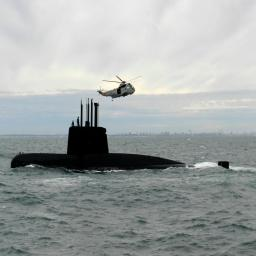helicopter: (98, 65, 147, 106)
submarine: (6, 93, 231, 183)
